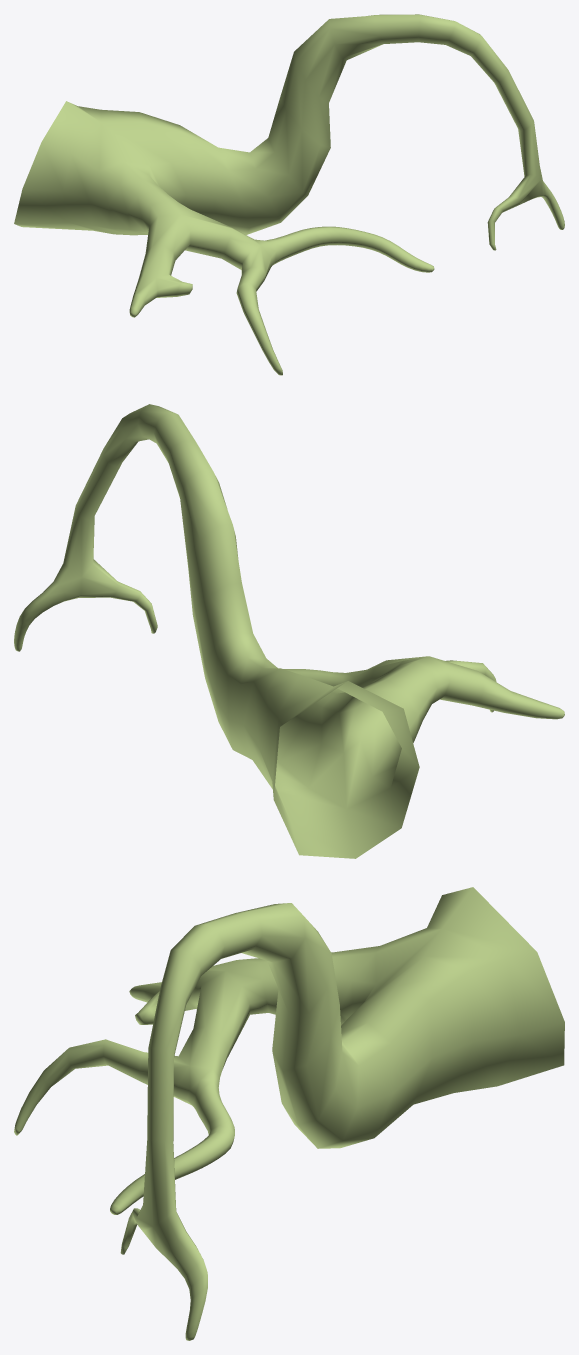
The model's file is Big tree branches_02.fbx.
3 views of the same model, one above another, from view 1: azimuth 30°, elevation 25°; view 2: azimuth 150°, elevation 25°; view 3: azimuth 270°, elevation 25° (orthographic). The views are drawn at different scales.
Visible parts, largest first — view 1: polySurface591; view 2: polySurface591; view 3: polySurface591.
Boxes of the visible parts, <box> form: polySurface591: <box>14,14,564,375</box>; polySurface591: <box>14,404,564,858</box>; polySurface591: <box>14,887,564,1340</box>.
Size of the model in its own units: 121 by 65.95 by 94.58.
